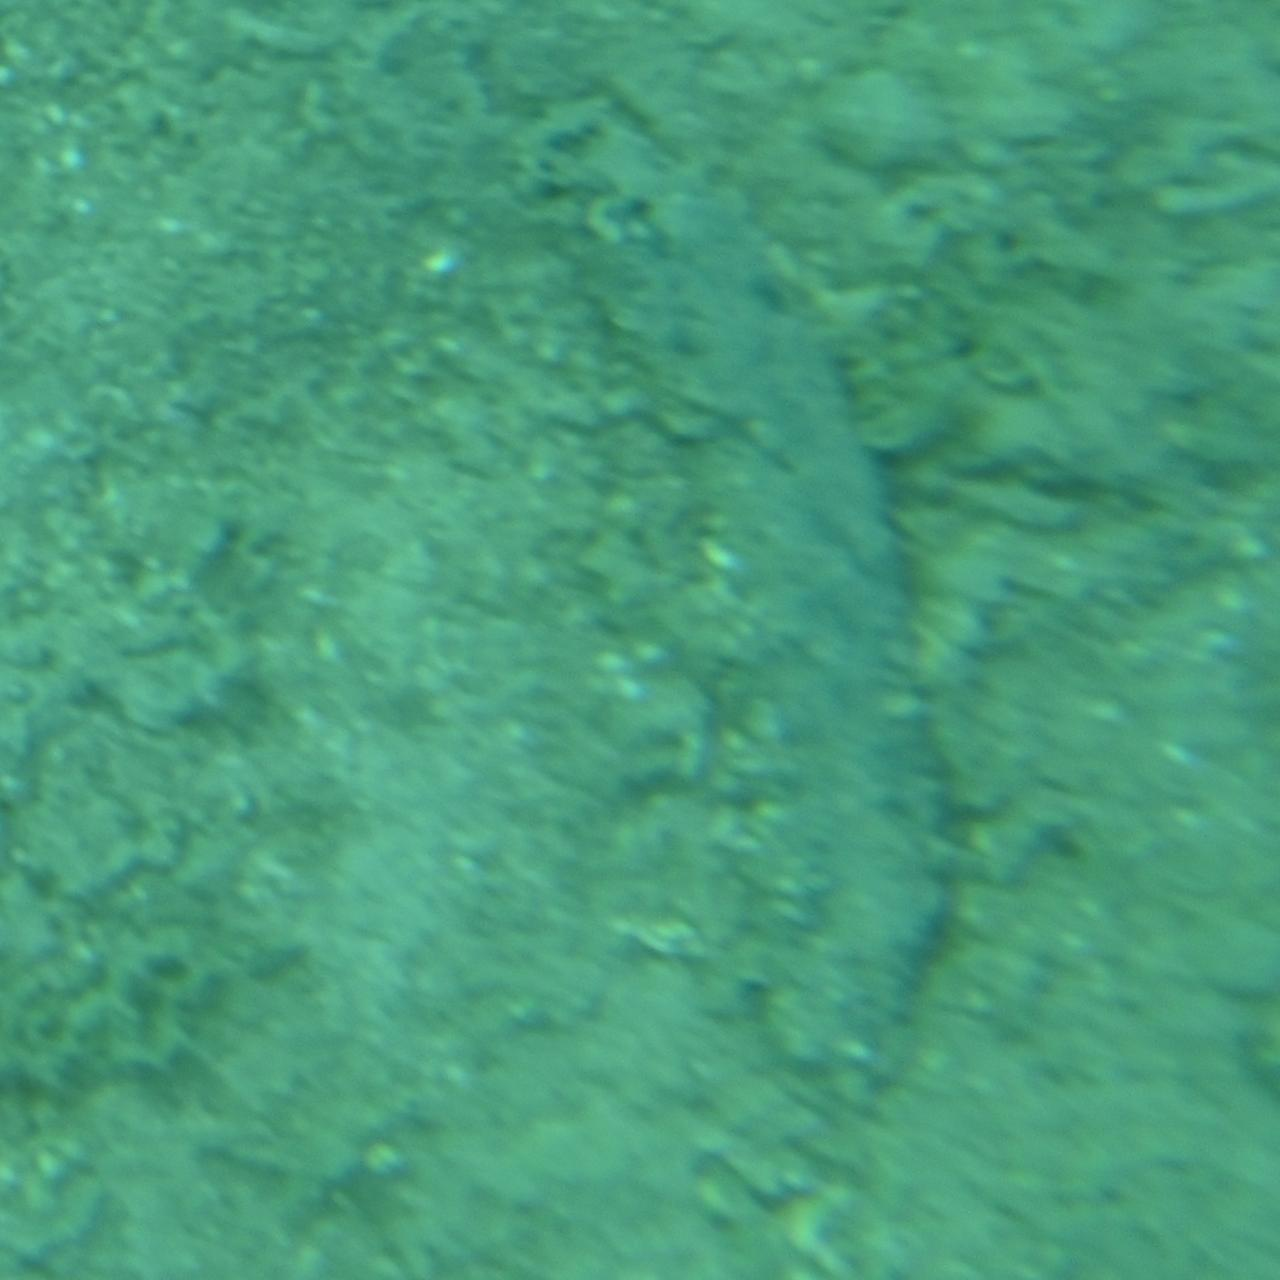Holothuria tubulosa: (595, 165, 964, 1115)
